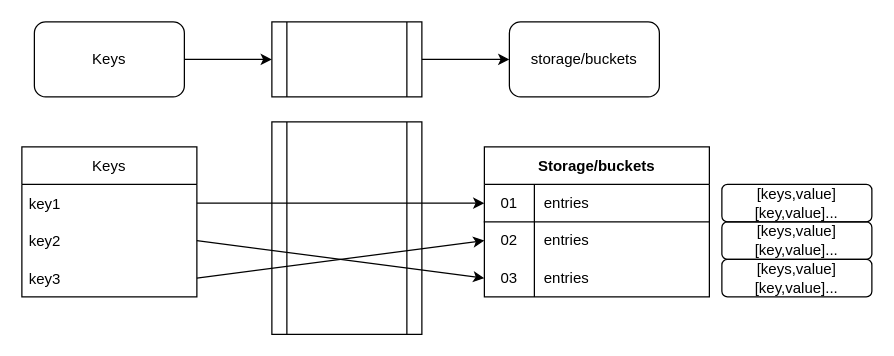
Image size: 894x356. Some labels were removed from this diagram. Each missing label, with the centre of its shape:
"Hash fucntion" belongs at [346,227].
"Hash Function" belongs at [346,59].
